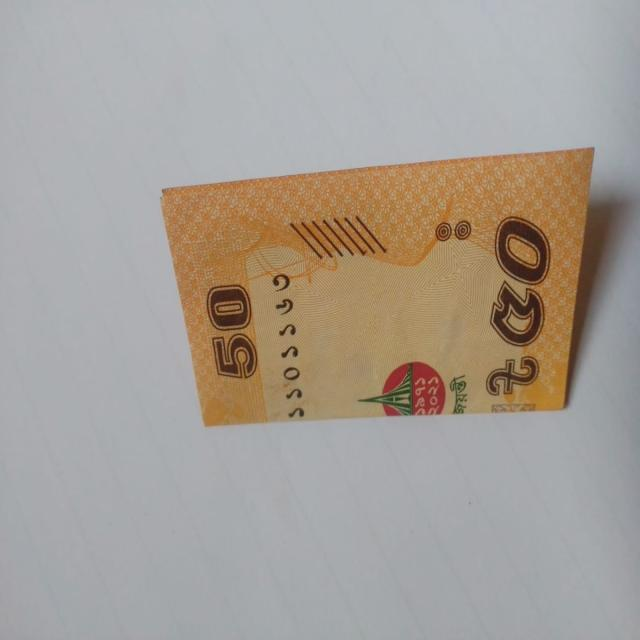Taka: (151, 151, 585, 430)
